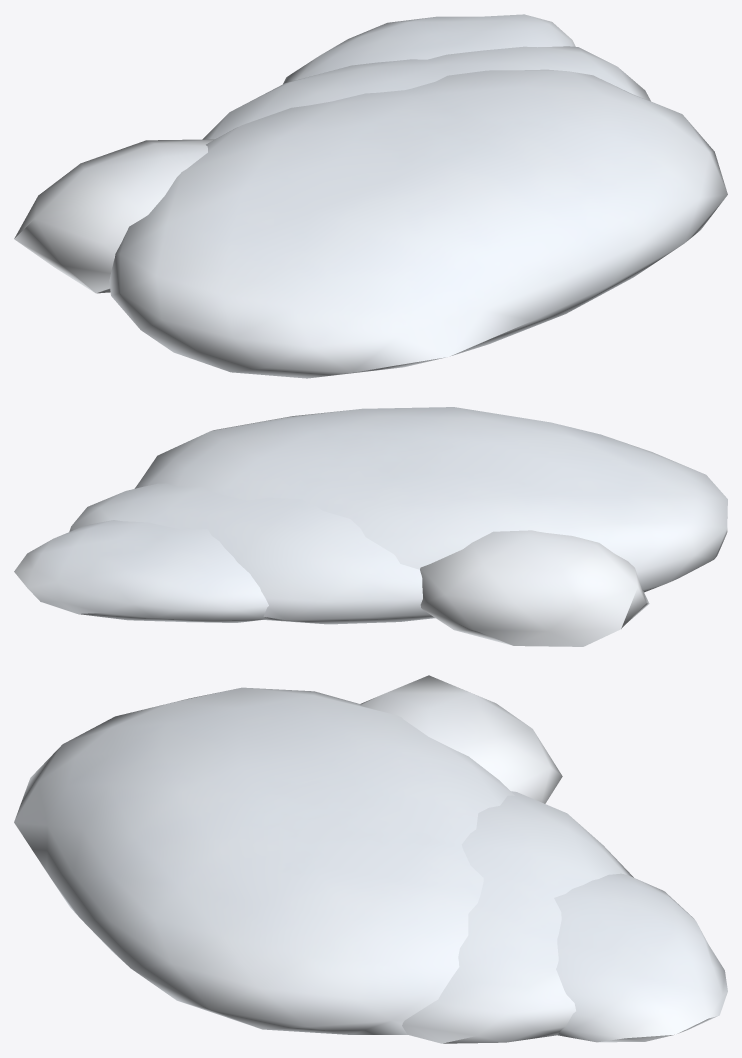
Rendered from snowdrift.gltf.
The picture shows the model from 3 angles, top to bottom: view 1: azimuth 30°, elevation 25°; view 2: azimuth 150°, elevation 25°; view 3: azimuth 270°, elevation 25°; orthographic projection. The views are drawn at different scales.
Visible parts, largest first — view 1: snowdrift; view 2: snowdrift; view 3: snowdrift.
Part boxes in pixels (<box>): snowdrift: <box>14,14,727,378</box>; snowdrift: <box>14,407,727,646</box>; snowdrift: <box>14,675,727,1043</box>.
Bounding box in the file's own units: 1.91 × 0.2689 × 1.82.
1 material, 1 textured.
